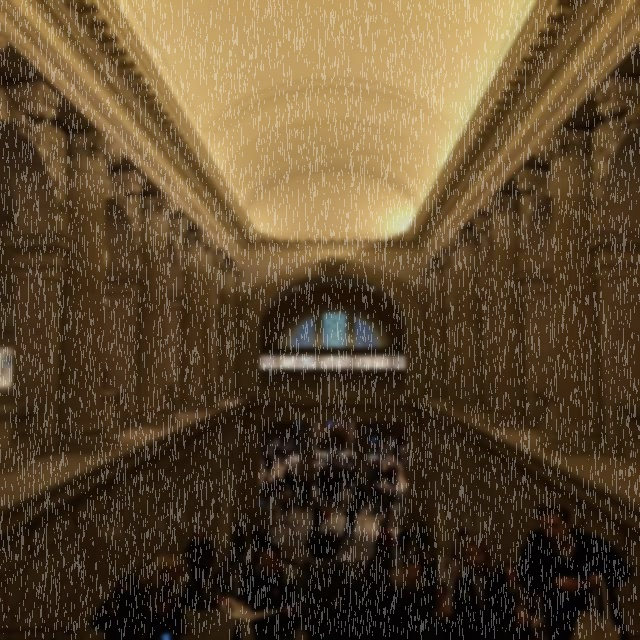pessoa: (516, 503, 640, 640), (135, 555, 233, 639), (292, 531, 365, 639), (234, 542, 304, 640), (450, 534, 514, 639), (89, 573, 151, 640), (261, 436, 387, 462), (183, 529, 216, 592), (226, 522, 250, 588), (500, 562, 530, 612), (314, 462, 382, 482), (214, 556, 242, 600), (391, 561, 428, 594), (353, 556, 397, 582), (266, 486, 293, 524), (373, 520, 396, 556), (340, 502, 360, 542), (305, 501, 326, 539), (413, 522, 434, 560), (451, 526, 473, 562), (314, 482, 349, 504), (250, 518, 265, 566), (396, 522, 412, 564), (351, 482, 368, 515), (380, 486, 396, 520), (368, 481, 384, 515), (298, 476, 312, 512), (382, 464, 398, 494), (269, 476, 283, 506), (287, 474, 300, 506), (260, 477, 276, 498), (264, 453, 276, 478), (391, 460, 402, 486), (391, 438, 401, 460), (282, 468, 292, 488), (400, 454, 407, 482), (261, 528, 272, 544), (279, 462, 286, 466)
